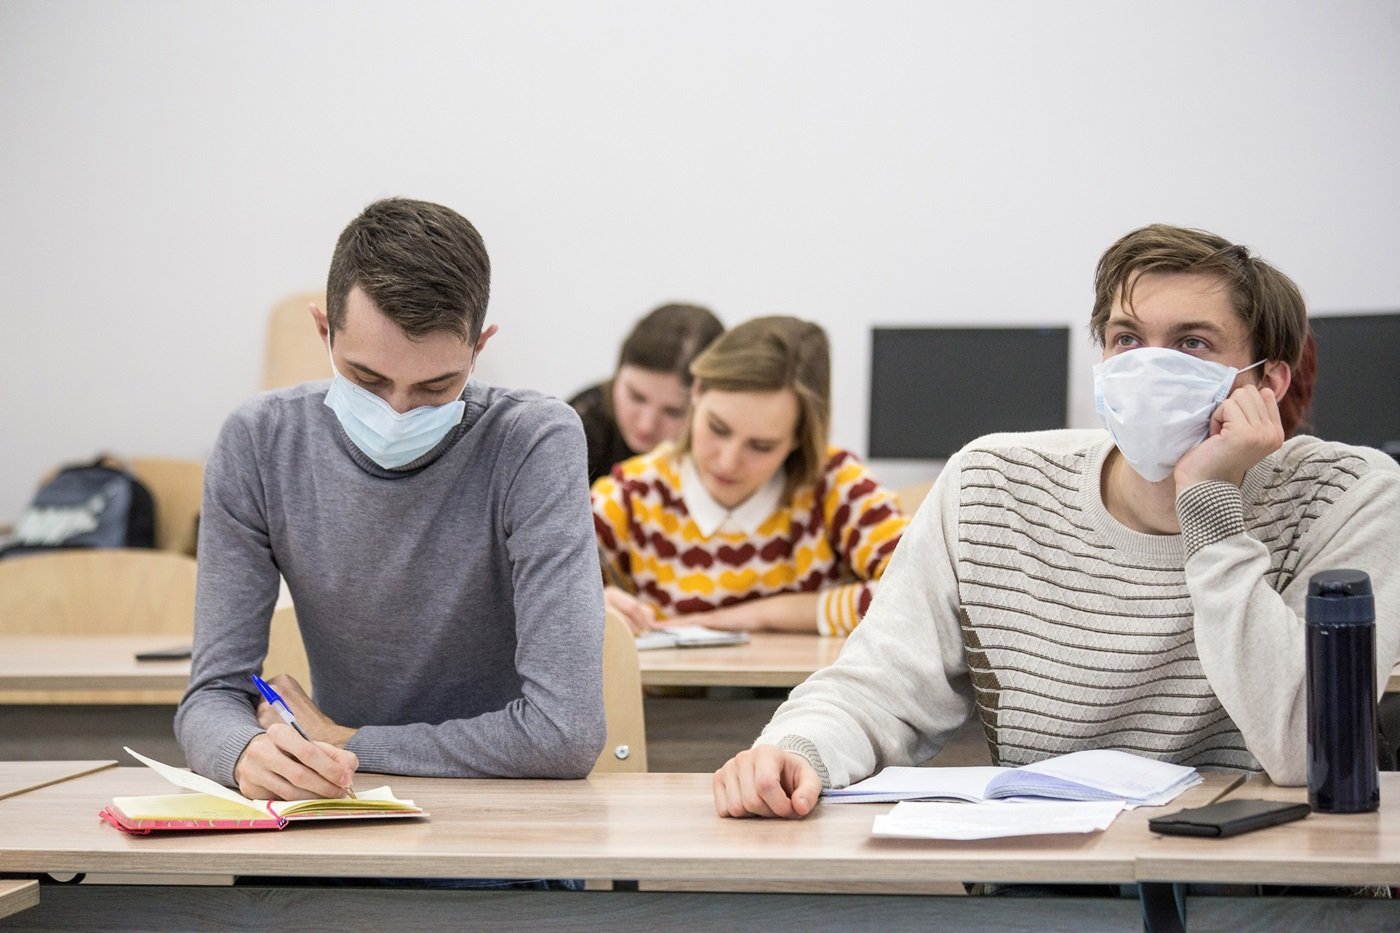students: (708, 220, 1400, 819), (175, 193, 609, 805), (584, 321, 911, 636), (564, 302, 728, 484)
